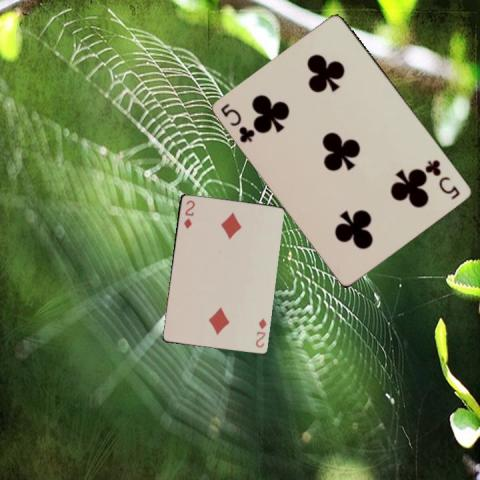2d: (181, 197, 196, 230), (253, 314, 267, 348)
5c: (218, 100, 257, 145), (423, 157, 462, 201)
